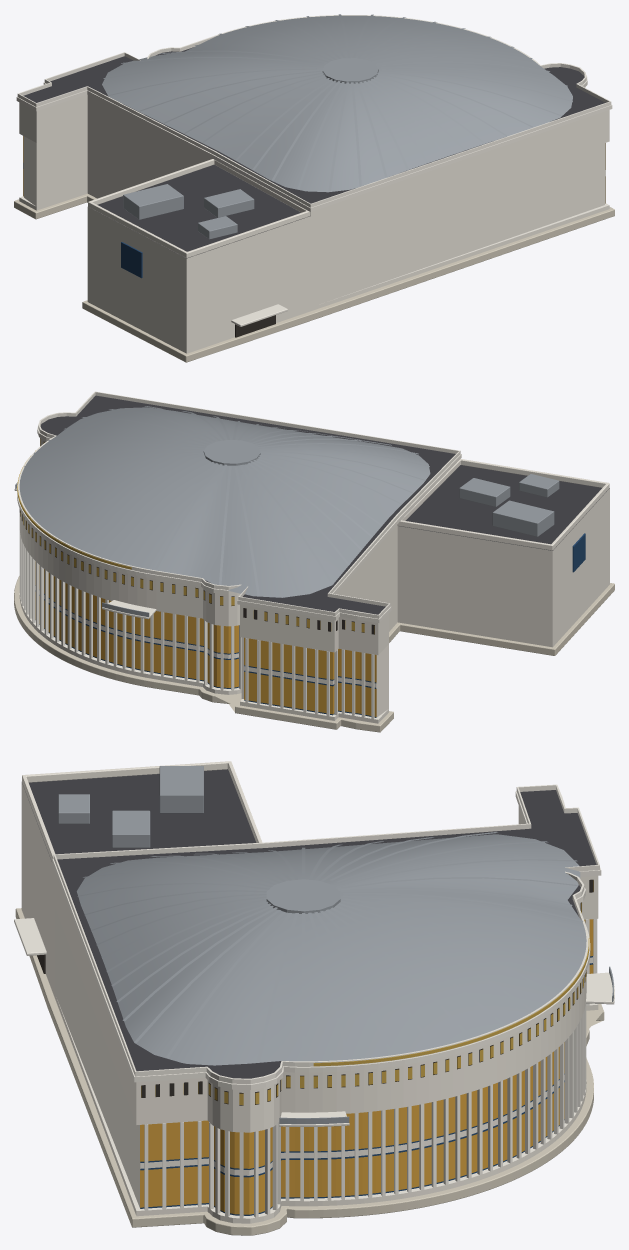
Rendered from davies-symphony-hall.glb.
3 views of the same model, one above another, from view 1: azimuth 30°, elevation 25°; view 2: azimuth 150°, elevation 25°; view 3: azimuth 270°, elevation 25° (orthographic). The views are drawn at different scales.
Visible parts, largest first — view 1: shell_roof, hall_body, boh_block, shell_ribs, plinth, fascia, cornice, boh_parapet, boh_plant_0, shell_crown, boh_plant_1, boh_plant_2 (+2 smaller); view 2: shell_roof, boh_block, hall_body, shell_ribs, promenade_glow_l1, plinth, promenade_glow_l2, fascia, boh_parapet, cornice, boh_plant_0, shell_crown (+3 smaller); view 3: shell_roof, hall_body, shell_ribs, boh_block, promenade_glow_l1, plinth, promenade_glow_l2, fascia, cornice, boh_parapet, boh_plant_0, shell_crown (+6 smaller).
Part boxes in pixels (x1=…): shell_roof: x1=102, y1=15, x2=572, y2=192; hall_body: x1=19, y1=47, x2=609, y2=310; boh_block: x1=87, y1=164, x2=310, y2=353; shell_ribs: x1=103, y1=14, x2=572, y2=191; plinth: x1=14, y1=193, x2=614, y2=362; fascia: x1=17, y1=15, x2=611, y2=207; cornice: x1=16, y1=75, x2=612, y2=211; boh_parapet: x1=88, y1=159, x2=310, y2=258; boh_plant_0: x1=123, y1=184, x2=183, y2=219; shell_crown: x1=322, y1=58, x2=378, y2=83; boh_plant_1: x1=204, y1=189, x2=254, y2=217; boh_plant_2: x1=198, y1=216, x2=237, y2=239; shell_roof: x1=19, y1=407, x2=430, y2=597; boh_block: x1=397, y1=465, x2=609, y2=647; hall_body: x1=19, y1=395, x2=455, y2=723; shell_ribs: x1=20, y1=406, x2=429, y2=595; promenade_glow_l1: x1=35, y1=592, x2=376, y2=716; plinth: x1=14, y1=576, x2=614, y2=732; promenade_glow_l2: x1=35, y1=561, x2=376, y2=682; fascia: x1=18, y1=391, x2=460, y2=618; boh_parapet: x1=397, y1=459, x2=609, y2=550; cornice: x1=17, y1=423, x2=461, y2=622; boh_plant_0: x1=492, y1=500, x2=554, y2=536; shell_crown: x1=203, y1=440, x2=260, y2=465; shell_roof: x1=76, y1=834, x2=586, y2=1065; hall_body: x1=55, y1=790, x2=598, y2=1223; shell_ribs: x1=77, y1=832, x2=586, y2=1063; boh_block: x1=21, y1=769, x2=256, y2=998; promenade_glow_l1: x1=140, y1=964, x2=593, y2=1214; plinth: x1=15, y1=908, x2=604, y2=1235; promenade_glow_l2: x1=140, y1=919, x2=593, y2=1168; fascia: x1=53, y1=784, x2=599, y2=1084; cornice: x1=52, y1=791, x2=601, y2=1089; boh_parapet: x1=22, y1=761, x2=262, y2=861; boh_plant_0: x1=159, y1=766, x2=203, y2=813; shell_crown: x1=266, y1=879, x2=340, y2=913.
Bounding box in the file's own units: 125 × 35 × 95.04.
